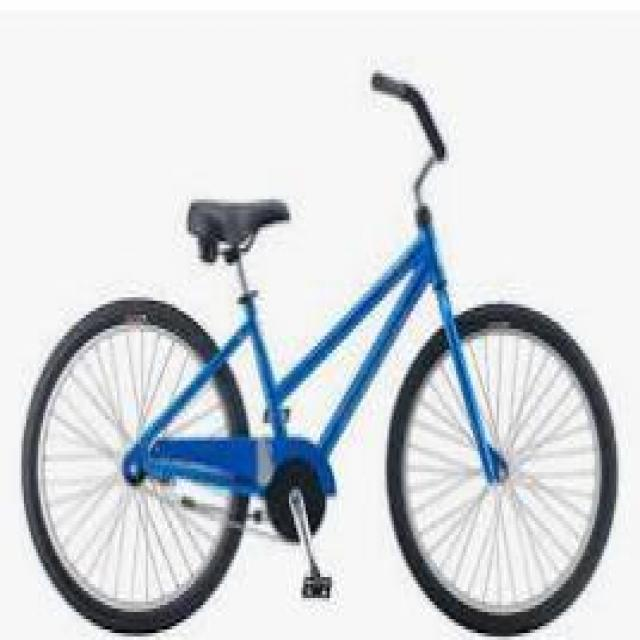bicycle: (28, 53, 632, 613)
